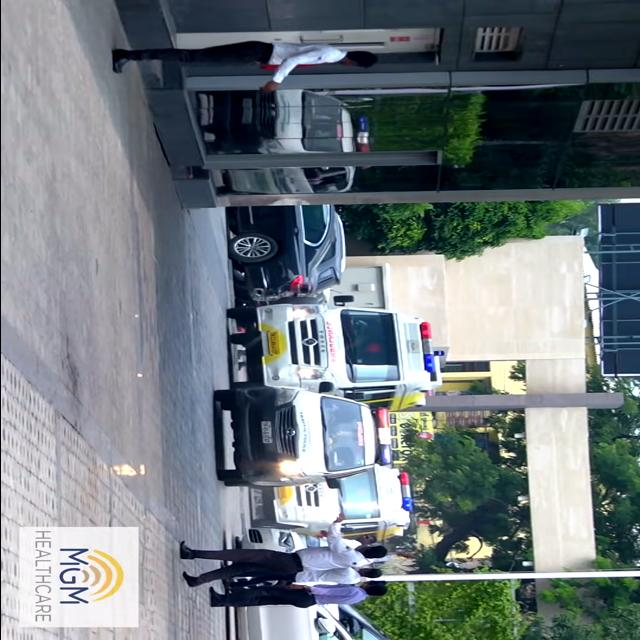emergency-vehicles: (215, 280, 459, 411), (183, 386, 394, 498), (219, 451, 419, 549)
